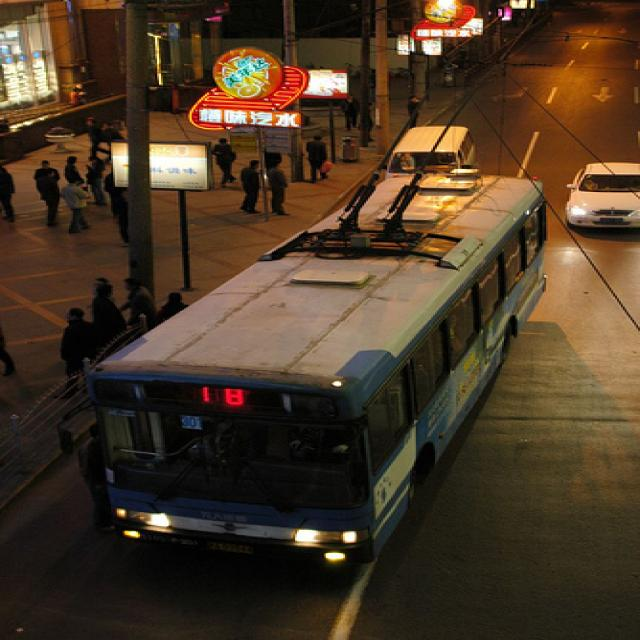Bus: (66, 150, 563, 585)
People: (56, 160, 102, 238), (50, 304, 96, 377), (117, 259, 154, 324), (257, 158, 298, 208)
car: (554, 154, 640, 240), (369, 117, 475, 184)
